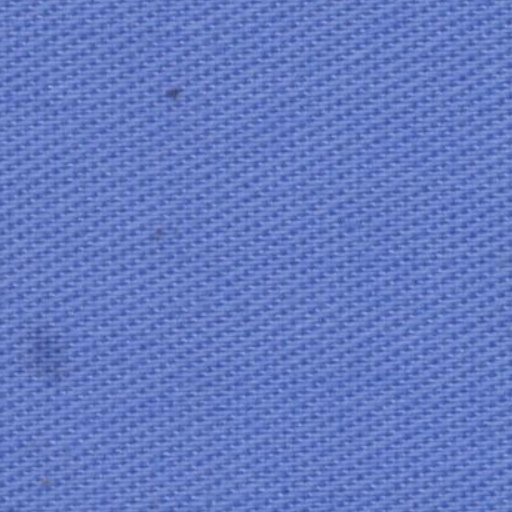WuZi: (20, 314, 88, 394), (125, 210, 198, 258), (146, 70, 200, 115)
